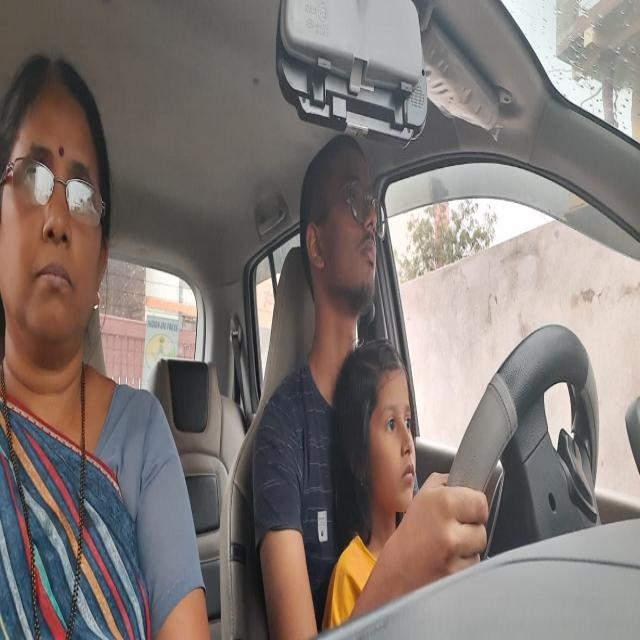child: (347, 329, 423, 519)
person: (0, 61, 112, 341), (299, 146, 385, 317)
